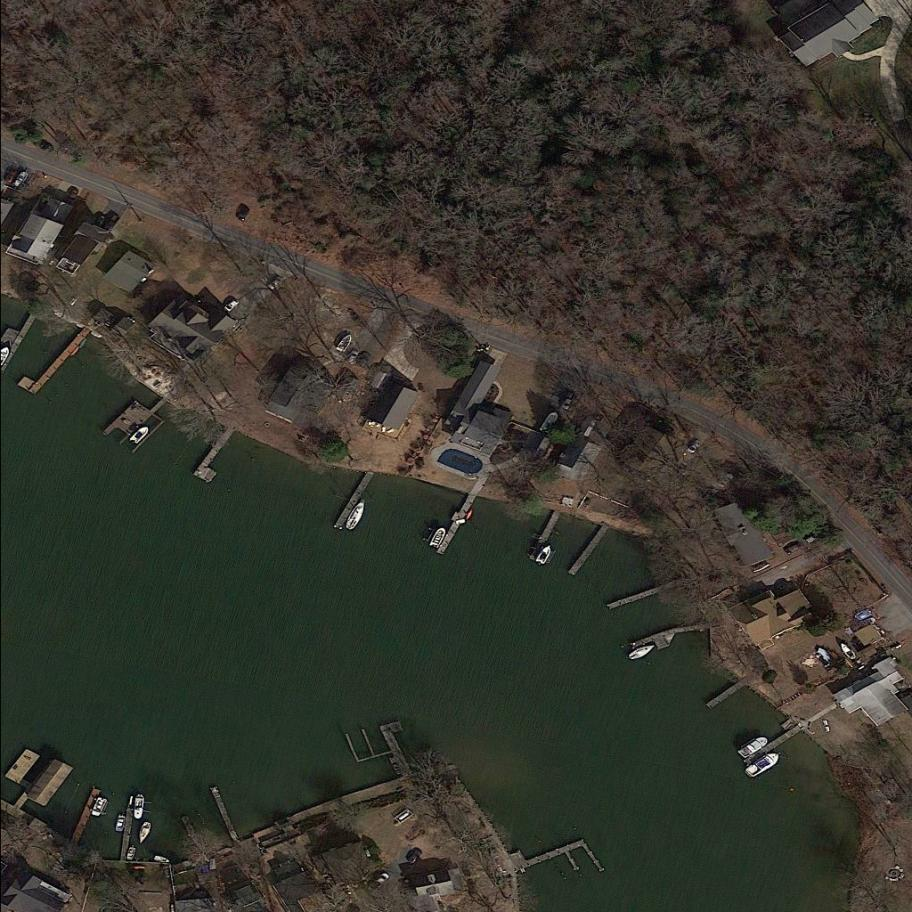large-vehicle: (368, 872, 389, 894)
ship: (743, 746, 786, 782), (736, 733, 770, 762), (343, 498, 369, 533), (628, 641, 657, 662), (128, 423, 151, 447), (135, 819, 154, 845), (90, 795, 109, 820), (428, 525, 447, 550), (335, 332, 354, 355), (536, 544, 553, 566), (839, 641, 856, 661), (133, 793, 145, 820), (115, 814, 126, 833), (126, 846, 136, 861), (153, 855, 170, 863)
small-vehicle: (102, 211, 121, 232), (11, 169, 29, 190), (561, 390, 577, 413), (224, 296, 243, 314), (717, 470, 735, 489), (2, 164, 19, 184), (356, 351, 372, 370), (407, 847, 423, 866), (784, 542, 804, 557), (65, 187, 80, 206), (236, 203, 251, 222), (267, 274, 283, 291), (92, 212, 108, 228), (688, 438, 703, 455), (346, 348, 360, 366)
